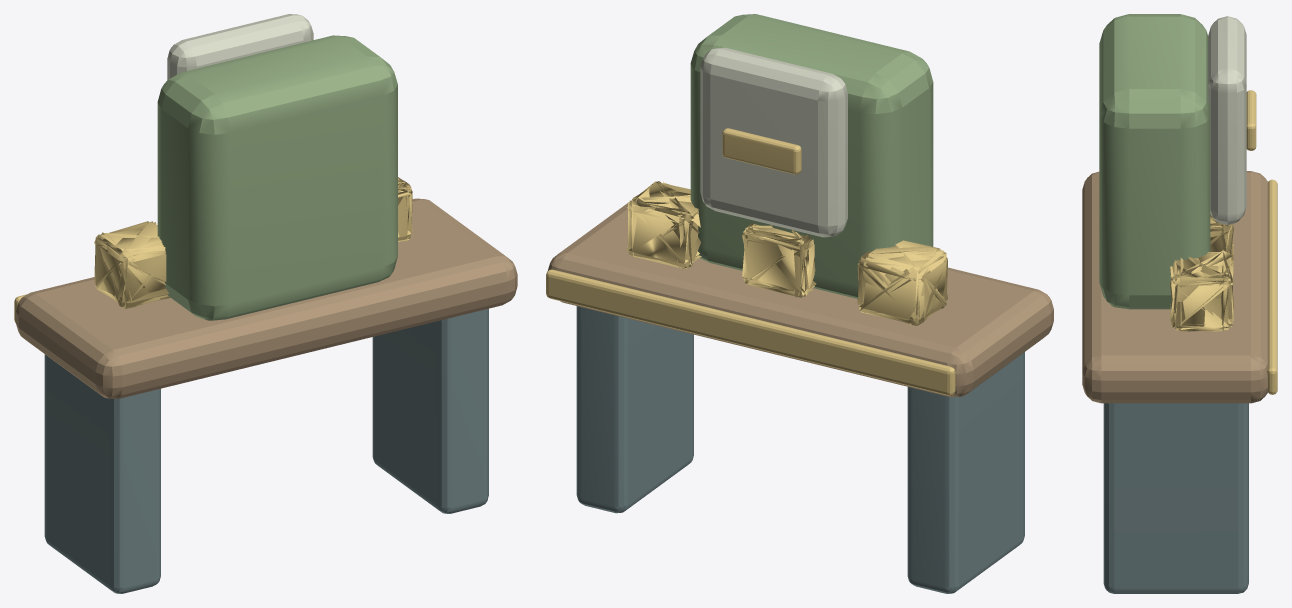
The model's file is station_ward.glb.
3 renders of one model, left to right at view 1: azimuth 30°, elevation 25°; view 2: azimuth 150°, elevation 25°; view 3: azimuth 270°, elevation 25°, orthographic. The views are drawn at different scales.
Parts seen in each view (by area): view 1: Surface_WorldOlive, Surface_WorldMetal, Surface_WorldWood, SupplyToken0, Surface_WorldIvory, SupplyToken2; view 2: Surface_WorldMetal, Surface_WorldOlive, Surface_WorldWood, Surface_WorldIvory, Surface_WorldBrass, SupplyToken0, SupplyToken2, SupplyToken1; view 3: Surface_WorldOlive, Surface_WorldMetal, Surface_WorldWood, Surface_WorldIvory, SupplyToken2, Surface_WorldBrass, SupplyToken1.
Boxes of the visible parts, left/top/right/bottom form: Surface_WorldOlive: left=157, top=35, right=397, bottom=320; Surface_WorldMetal: left=44, top=308, right=488, bottom=593; Surface_WorldWood: left=16, top=198, right=517, bottom=399; SupplyToken0: left=94, top=221, right=170, bottom=308; Surface_WorldIvory: left=167, top=14, right=313, bottom=79; SupplyToken2: left=398, top=177, right=412, bottom=241; Surface_WorldMetal: left=576, top=306, right=1024, bottom=593; Surface_WorldOlive: left=690, top=14, right=933, bottom=298; Surface_WorldWood: left=548, top=201, right=1053, bottom=397; Surface_WorldIvory: left=700, top=47, right=847, bottom=237; Surface_WorldBrass: left=546, top=128, right=955, bottom=395; SupplyToken0: left=857, top=240, right=947, bottom=325; SupplyToken2: left=627, top=181, right=701, bottom=269; SupplyToken1: left=742, top=222, right=816, bottom=297; Surface_WorldOlive: left=1099, top=14, right=1210, bottom=309; Surface_WorldMetal: left=1103, top=403, right=1248, bottom=593; Surface_WorldWood: left=1082, top=171, right=1268, bottom=403; Surface_WorldIvory: left=1208, top=16, right=1246, bottom=224; SupplyToken2: left=1170, top=250, right=1233, bottom=331; Surface_WorldBrass: left=1246, top=90, right=1277, bottom=394; SupplyToken1: left=1210, top=213, right=1233, bottom=266.
Size of the model in its own units: 1.1 by 1.2 by 0.4575.
